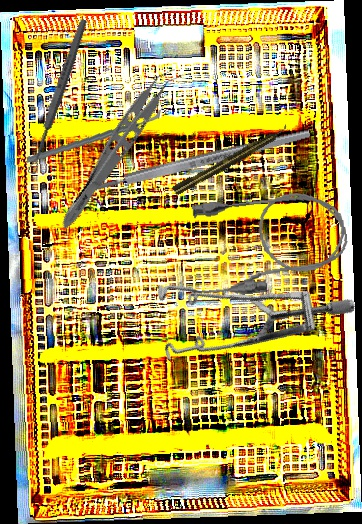Cannula: (181, 184, 353, 302)
Chopper: (26, 95, 163, 176)
Handpiece: (171, 123, 291, 197)
Scalpel Handle: (85, 127, 312, 196)
Speculum: (128, 215, 359, 427)
Surgical Spoon: (25, 17, 90, 176)
Tissue Forceps: (56, 59, 185, 240)
